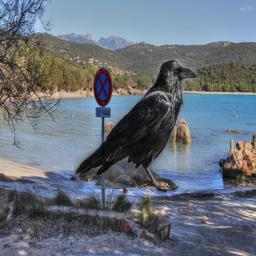Crow: (74, 59, 197, 189)
